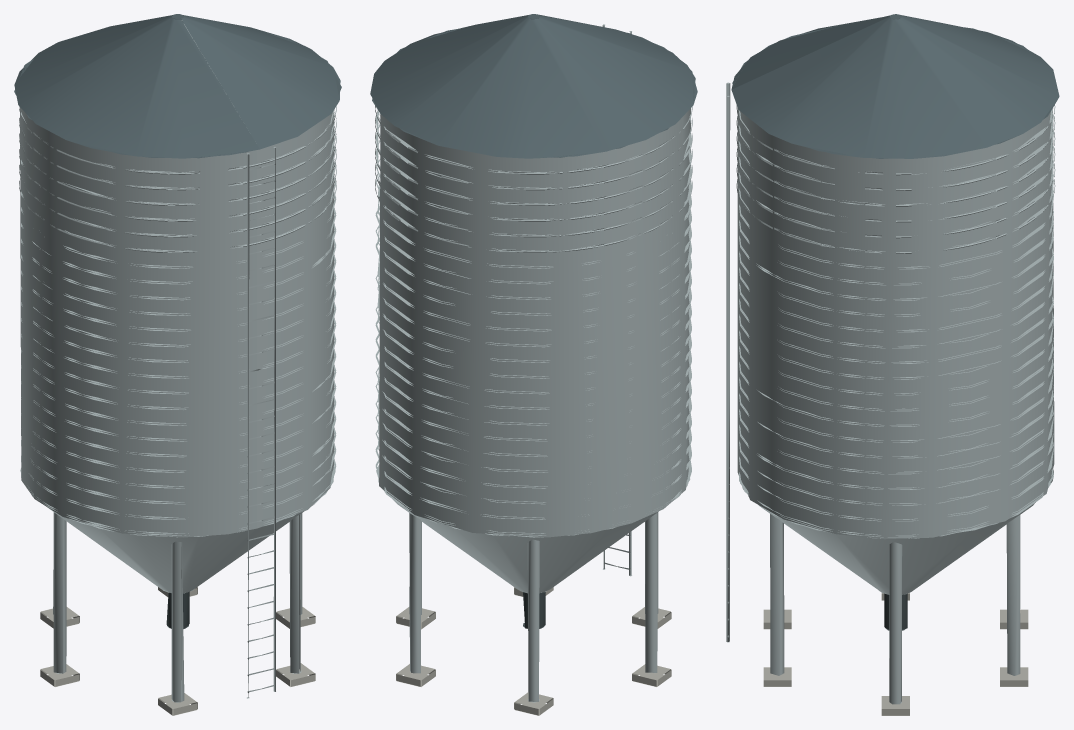
The model's file is grain_silo_lod1.glb.
3 renders of one model, left to right at view 1: azimuth 30°, elevation 25°; view 2: azimuth 150°, elevation 25°; view 3: azimuth 270°, elevation 25°, orthographic.
Visible parts, largest first — view 1: grain_silo_lod1; view 2: grain_silo_lod1; view 3: grain_silo_lod1.
Part boxes in pixels (x1=…): grain_silo_lod1: x1=14, y1=14, x2=341, y2=715; grain_silo_lod1: x1=370, y1=14, x2=697, y2=715; grain_silo_lod1: x1=726, y1=14, x2=1059, y2=715.
Bounding box in the file's own units: 5.29 × 11.3 × 5.37.
